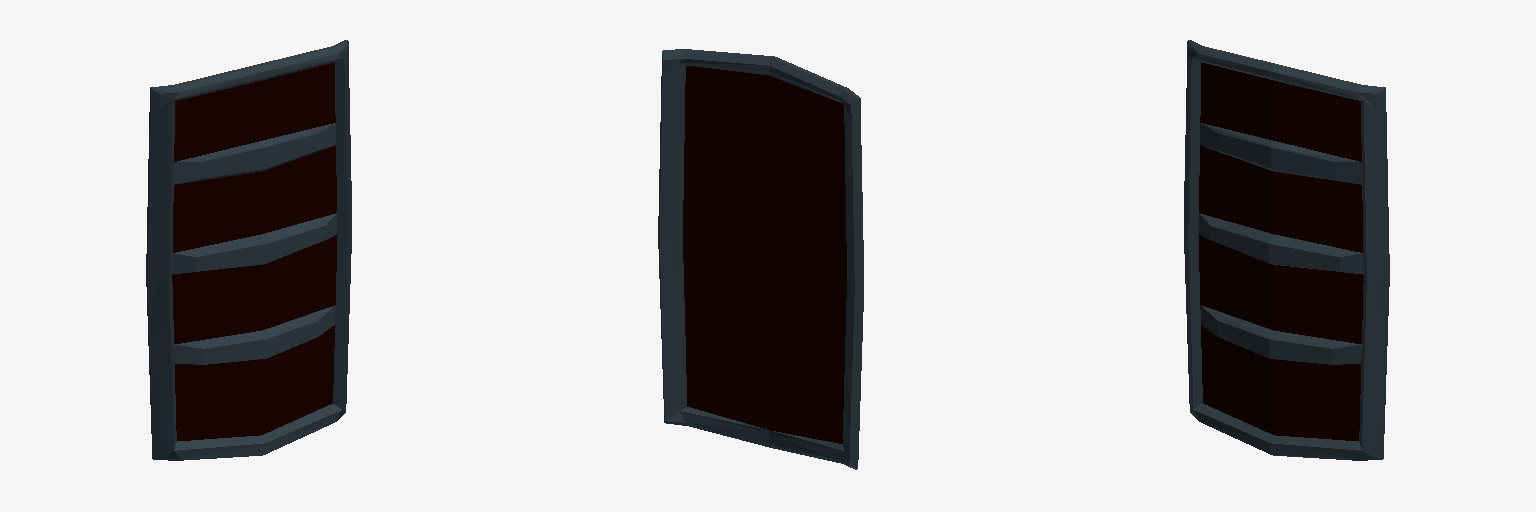
The model's file is BasicTall.obj.
The picture shows the model from 3 angles: view 1: azimuth 30°, elevation 25°; view 2: azimuth 150°, elevation 25°; view 3: azimuth 330°, elevation 25°; orthographic projection.
Parts seen in each view (by area): view 1: TallBasic_Plane.004; view 2: TallBasic_Plane.004; view 3: TallBasic_Plane.004.
Part boxes in pixels (x1,y1,x2,y2): TallBasic_Plane.004: (146,40,351,460); TallBasic_Plane.004: (658,49,863,469); TallBasic_Plane.004: (1184,40,1389,460).
Size of the model in its own units: 0.8866 by 1.61 by 0.1618.